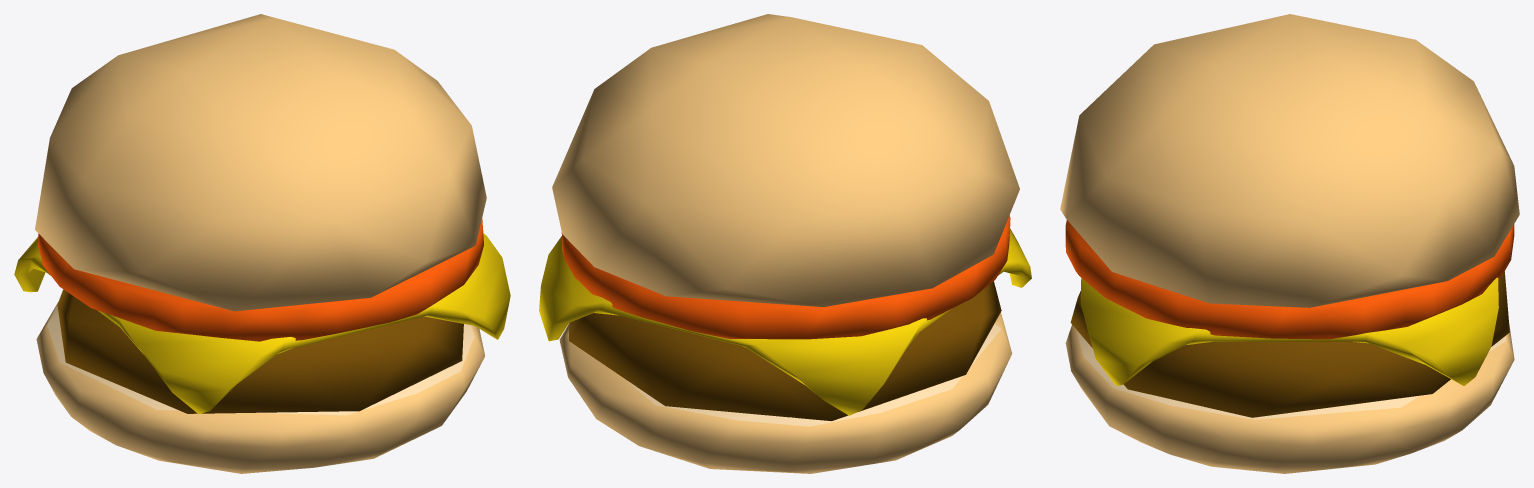
File: Burger.fbx
3 views of the same model, side by side, from view 1: azimuth 30°, elevation 25°; view 2: azimuth 150°, elevation 25°; view 3: azimuth 270°, elevation 25° (orthographic).
Visible parts, largest first — view 1: top_bun_1, Bottom_bun, beef, tomato, Cheese; view 2: top_bun_1, Bottom_bun, beef, tomato, Cheese; view 3: top_bun_1, Bottom_bun, beef, tomato, Cheese.
Boxes of the visible parts, x1,y1,x2,y2 form: top_bun_1: (35, 14, 486, 311); Bottom_bun: (36, 302, 484, 473); beef: (57, 289, 463, 413); tomato: (37, 218, 483, 341); Cheese: (14, 233, 510, 414); top_bun_1: (552, 14, 1019, 306); Bottom_bun: (559, 312, 1012, 473); beef: (569, 281, 1001, 421); tomato: (561, 215, 1010, 339); Cheese: (539, 228, 1031, 415); top_bun_1: (1060, 14, 1519, 307); Bottom_bun: (1065, 323, 1514, 473); beef: (1070, 271, 1509, 417); tomato: (1065, 219, 1514, 339); Cheese: (1080, 277, 1498, 386).
Bounding box in the file's own units: 1.19 × 0.984 × 1.2.
